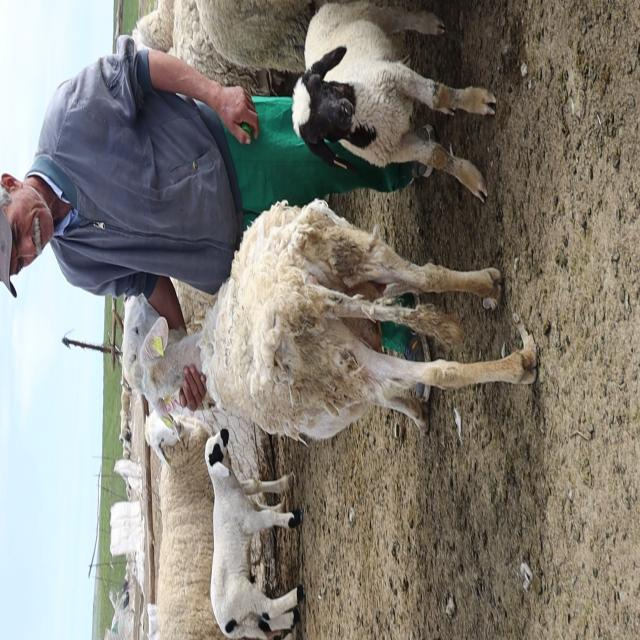Score_2: (122, 200, 536, 440)
